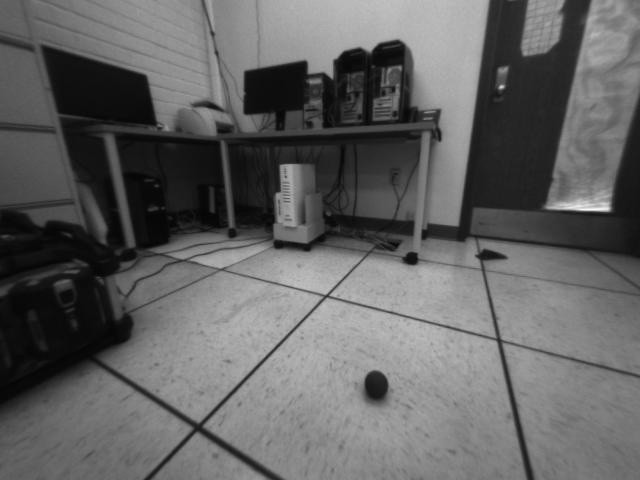dogtoy: (352, 363, 402, 405)
